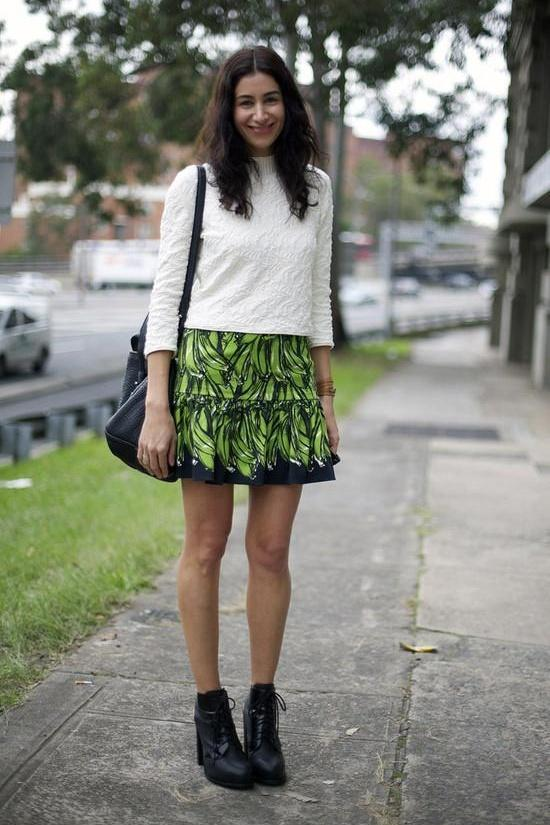skirt: (168, 330, 341, 486)
sweater: (140, 152, 336, 358)
